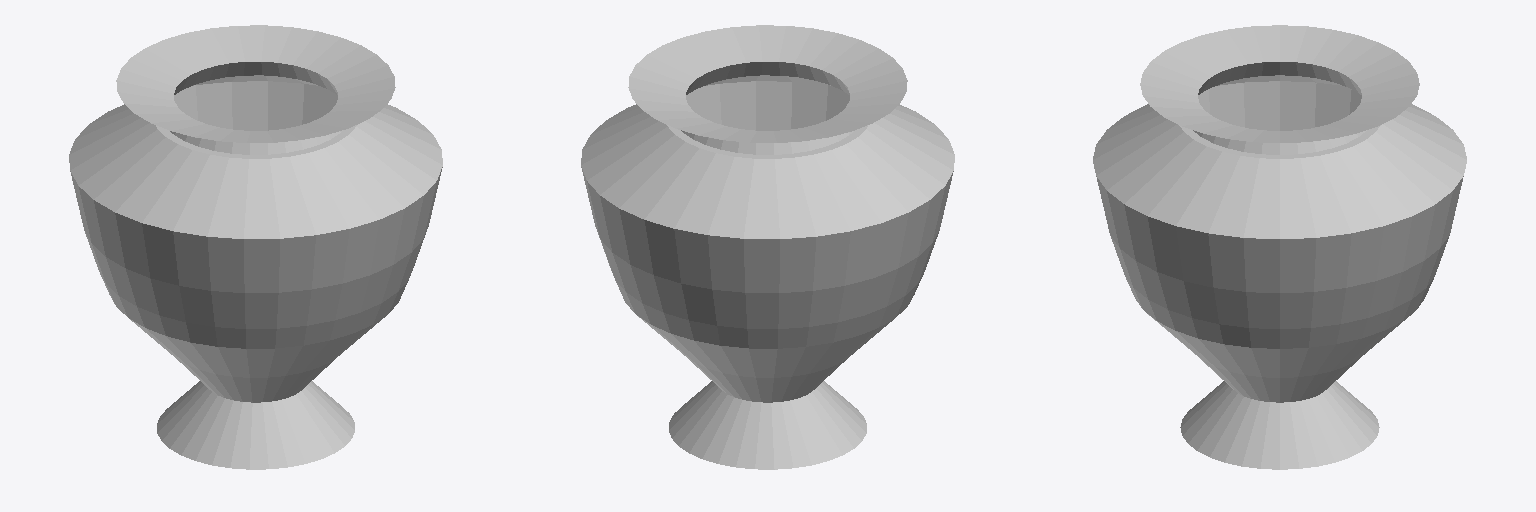
Rendered from vase.obj.
The picture shows the model from 3 angles: view 1: azimuth 30°, elevation 25°; view 2: azimuth 150°, elevation 25°; view 3: azimuth 270°, elevation 25°; orthographic projection.
Parts seen in each view (by area): view 1: Cylinder; view 2: Cylinder; view 3: Cylinder.
Part boxes in pixels (x1,y1,x2,y2): Cylinder: (69,25,442,469); Cylinder: (581,25,954,469); Cylinder: (1093,25,1466,469).
Size of the model in its own units: 3.76 by 3.8 by 3.76.